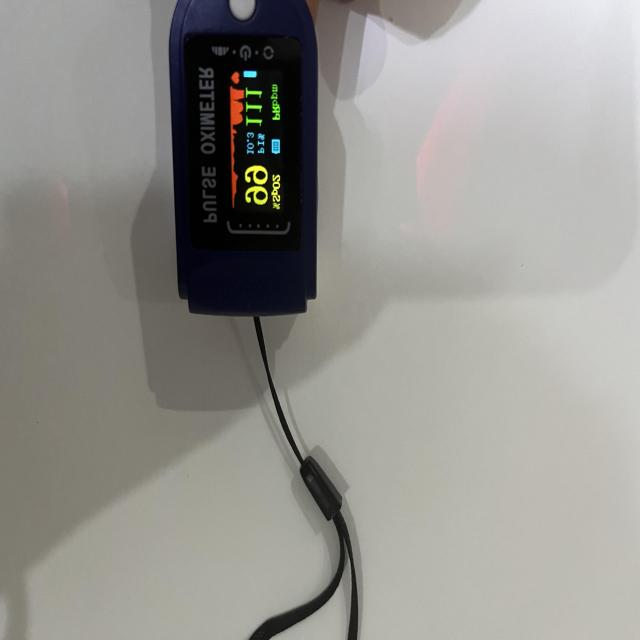spo2: (168, 0, 318, 319)
